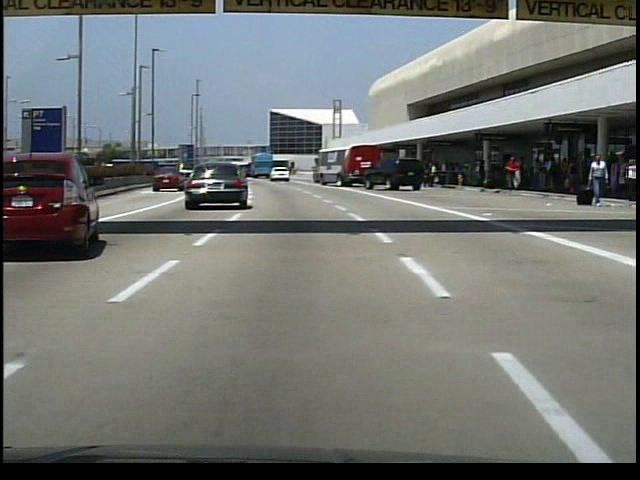person: (585, 152, 610, 208), (502, 154, 522, 191), (562, 157, 578, 194), (542, 153, 556, 190), (425, 162, 438, 189), (478, 158, 490, 187)
